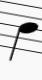note: (5, 2, 39, 65)
